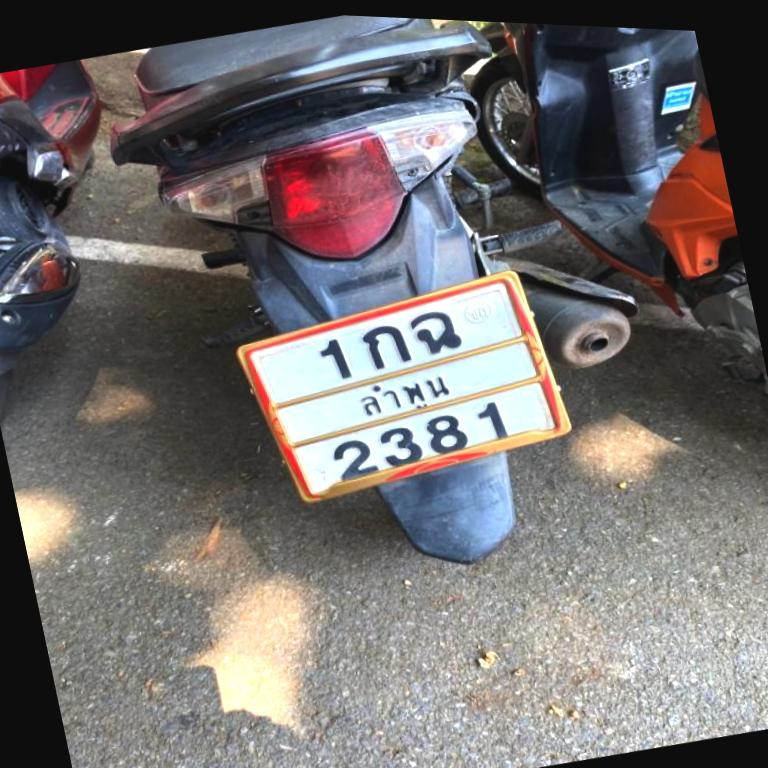license plate: (238, 271, 569, 501)
